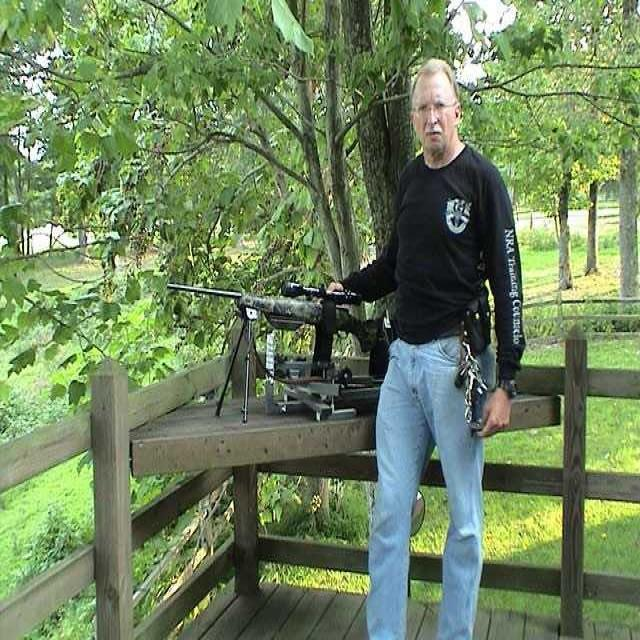heavyweapon: (160, 257, 392, 433)
